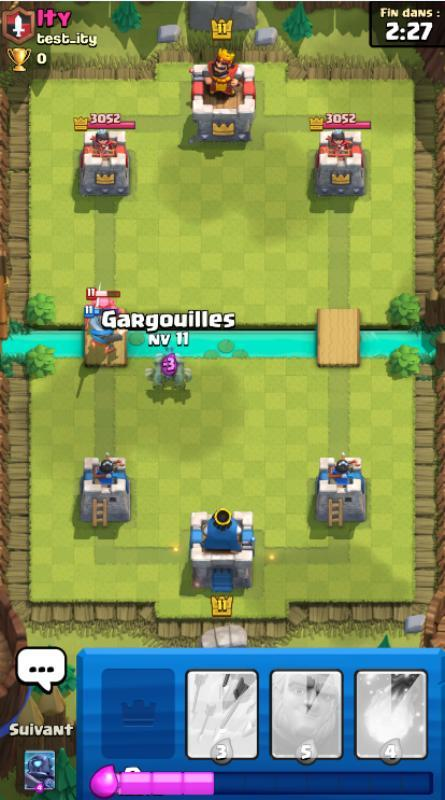chevalier: (83, 283, 129, 356)
gargouille: (168, 360, 194, 391), (144, 361, 169, 390), (156, 347, 180, 364)
mini_PEKKA: (85, 287, 123, 330)
